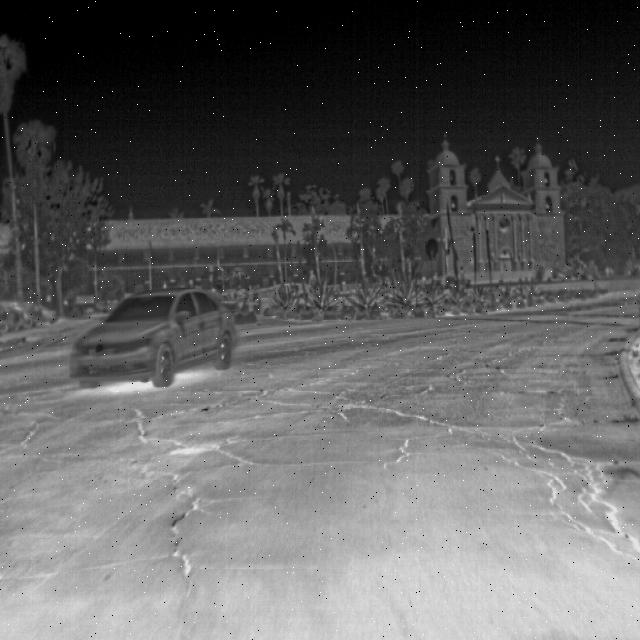Vehicle: (66, 284, 238, 391)
